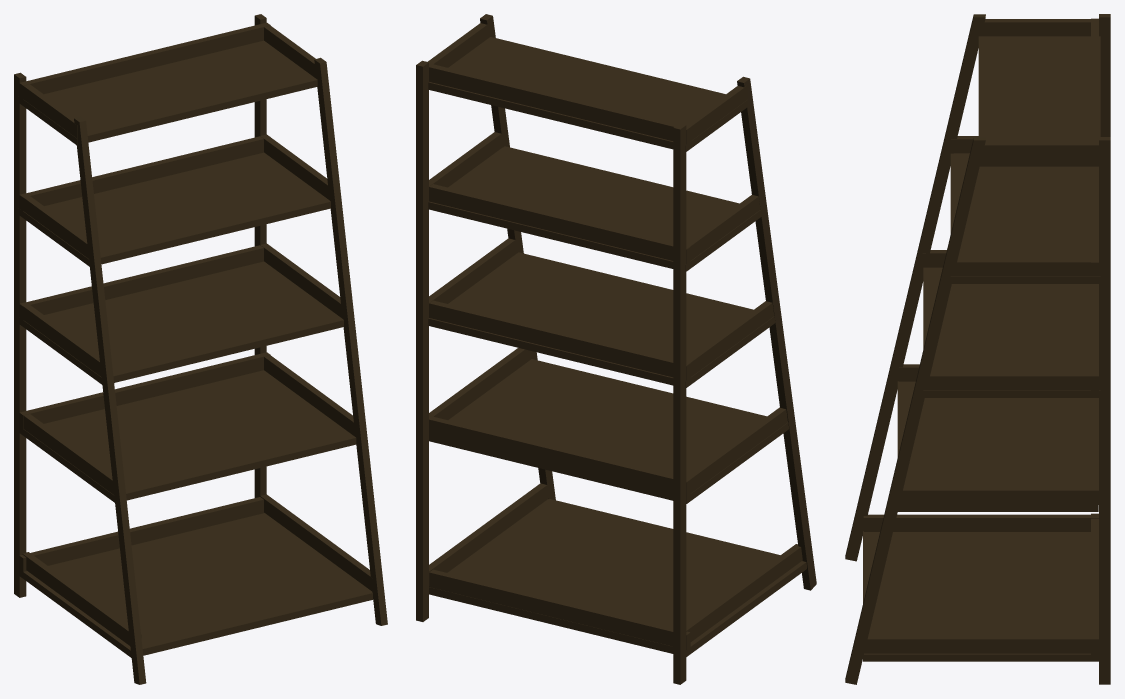
The model's file is rack.fbx.
The picture shows the model from 3 angles, left to right: view 1: azimuth 30°, elevation 25°; view 2: azimuth 150°, elevation 25°; view 3: azimuth 270°, elevation 25°; orthographic projection. The views are drawn at different scales.
Visible parts, largest first — view 1: pCube5, pCube7, pCube8, pCube9, pCube10, pCube12, pCube15, pCube14, pCube20, pCube17, pCube19, pCube18 (+12 smaller); view 2: pCube5, pCube7, pCube8, pCube9, pCube10, pCube14, rack, pCube15, pCube20, pCube17, pCube16, pCube19 (+12 smaller); view 3: pCube5, pCube7, pCube8, pCube9, pCube10, pCube12, pCube15, rack, pCube21, pCube22, pCube24, pCube25 (+9 smaller).
Part boxes in pixels (x1=…): pCube5: x1=19, y1=513, x2=373, y2=657; pCube7: x1=19, y1=370, x2=356, y2=502; pCube8: x1=18, y1=261, x2=343, y2=384; pCube9: x1=18, y1=152, x2=330, y2=266; pCube10: x1=18, y1=40, x2=317, y2=145; pCube12: x1=314, y1=57, x2=387, y2=625; pCube15: x1=74, y1=116, x2=146, y2=684; pCube14: x1=14, y1=72, x2=26, y2=597; pCube20: x1=19, y1=22, x2=270, y2=98; pCube17: x1=19, y1=352, x2=270, y2=428; pCube19: x1=19, y1=136, x2=263, y2=210; pCube18: x1=19, y1=245, x2=263, y2=320; pCube5: x1=429, y1=499, x2=806, y2=656; pCube7: x1=429, y1=359, x2=788, y2=503; pCube8: x1=428, y1=252, x2=775, y2=388; pCube9: x1=428, y1=146, x2=762, y2=271; pCube10: x1=428, y1=37, x2=747, y2=152; pCube14: x1=673, y1=123, x2=686, y2=684; rack: x1=416, y1=60, x2=428, y2=621; pCube15: x1=737, y1=76, x2=816, y2=590; pCube20: x1=429, y1=63, x2=690, y2=144; pCube17: x1=429, y1=415, x2=690, y2=496; pCube16: x1=429, y1=569, x2=690, y2=649; pCube19: x1=429, y1=184, x2=690, y2=264; pCube5: x1=863, y1=531, x2=1099, y2=661; pCube7: x1=897, y1=381, x2=1098, y2=511; pCube8: x1=923, y1=267, x2=1100, y2=397; pCube9: x1=950, y1=153, x2=1100, y2=283; pCube10: x1=978, y1=36, x2=1100, y2=166; pCube12: x1=845, y1=137, x2=985, y2=684; pCube15: x1=845, y1=14, x2=985, y2=561; rack: x1=1099, y1=137, x2=1110, y2=684; pCube21: x1=864, y1=636, x2=1098, y2=653; pCube22: x1=863, y1=514, x2=1098, y2=531; pCube24: x1=899, y1=487, x2=1099, y2=504; pCube25: x1=922, y1=373, x2=1099, y2=390.
Bounding box in the file's own units: 38.11 × 76.23 × 33.7.
